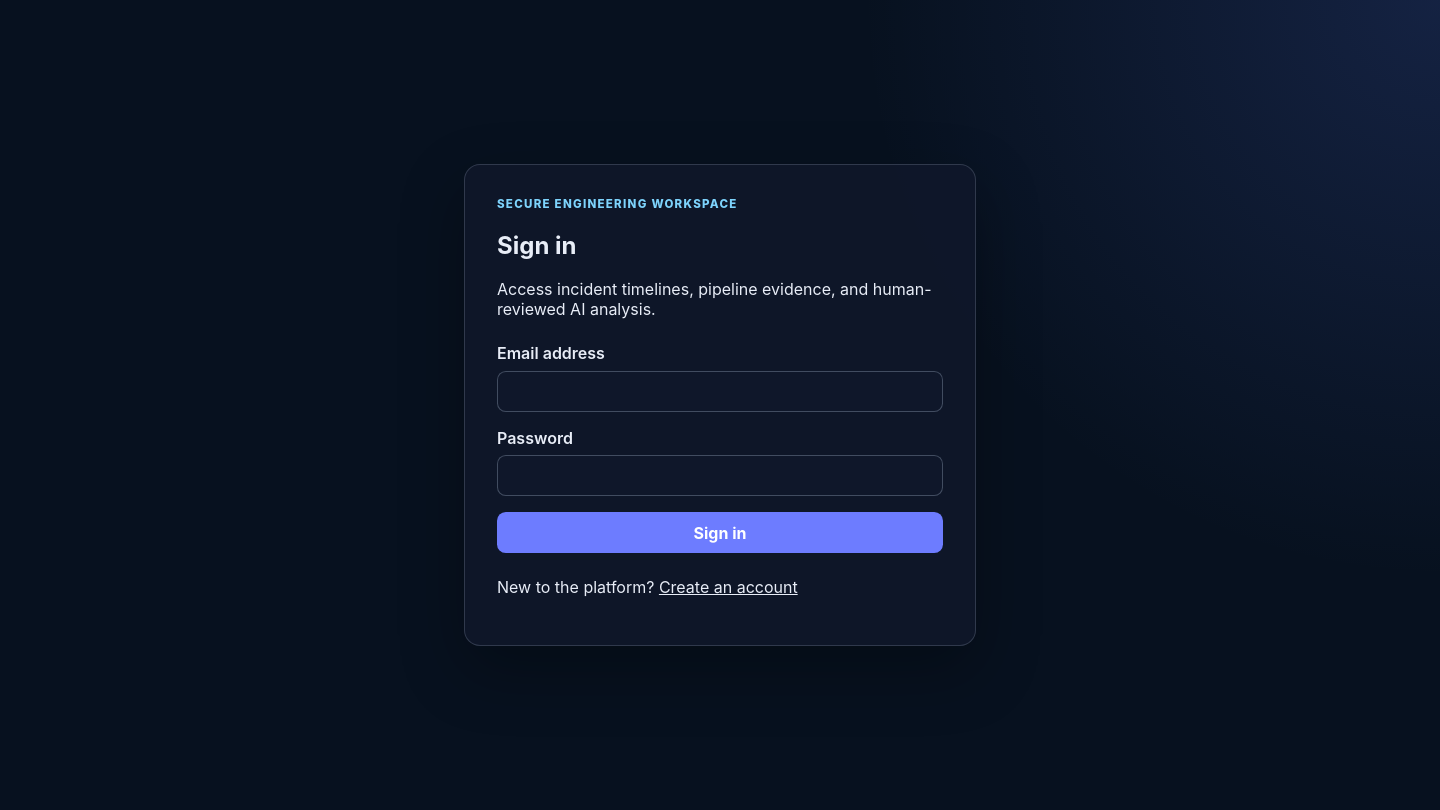
it: frontend authentication › submits login and opens the protected workspace
Type "sam@example.com" into the field labelled "Email address".
click(720, 391); type("sam@example.com")  # box [497, 371, 943, 412]
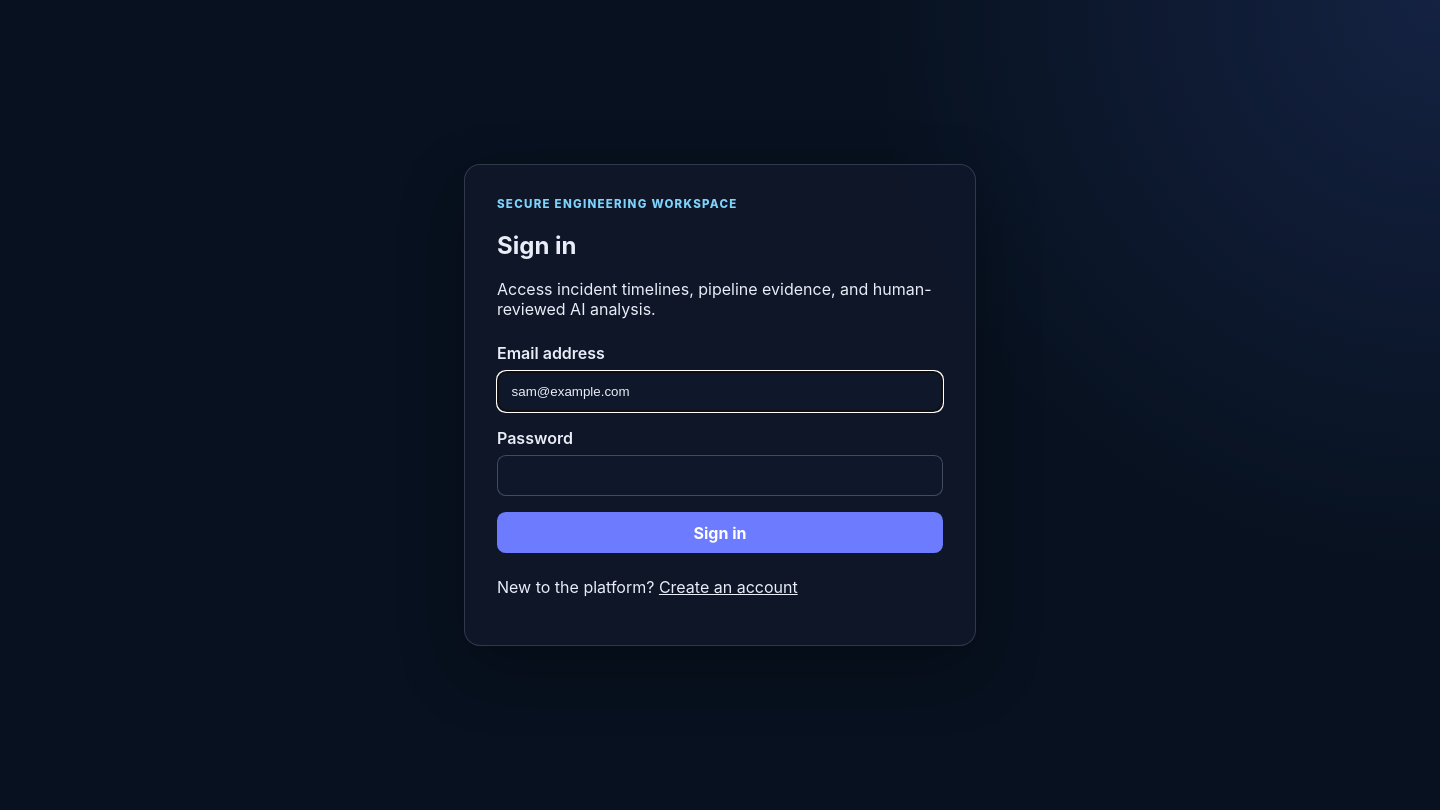
Type "correct-password" into the password field labelled "Password".
click(720, 475); type("correct-password")  # box [497, 455, 943, 496]
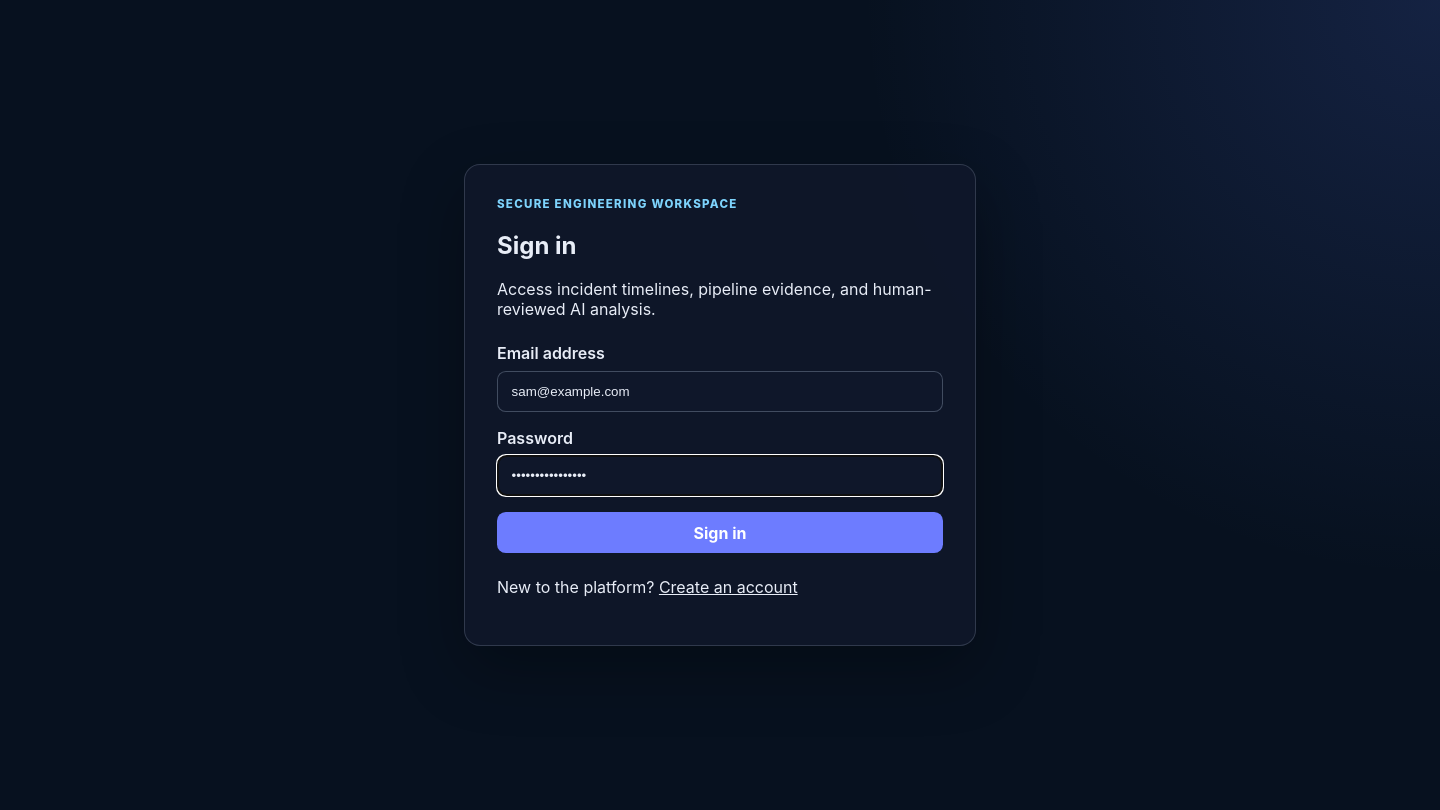
Click the button "Sign in".
click(720, 533)  # box [497, 512, 943, 553]
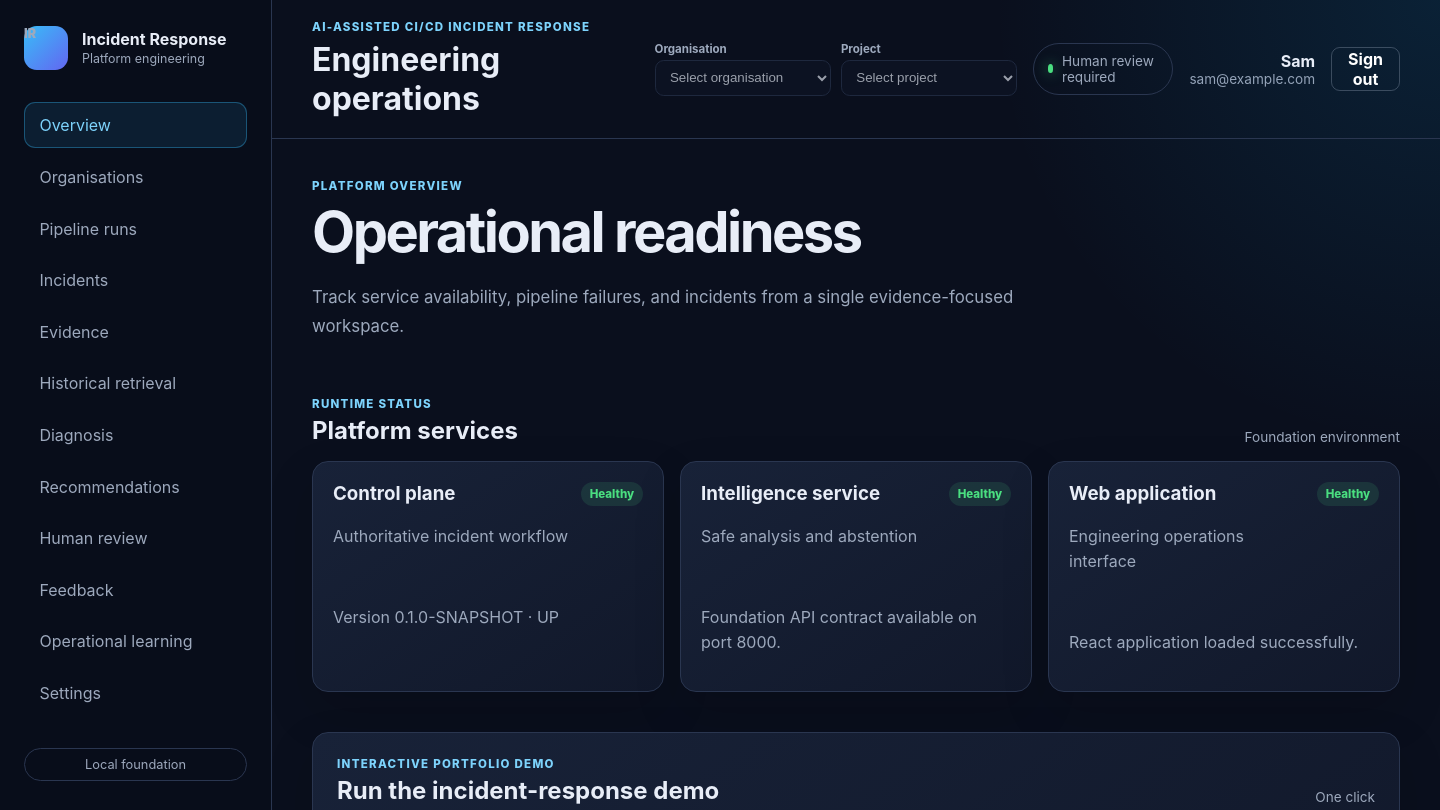
Result: the heading "Operational readiness" is shown at [312, 198, 861, 266]
